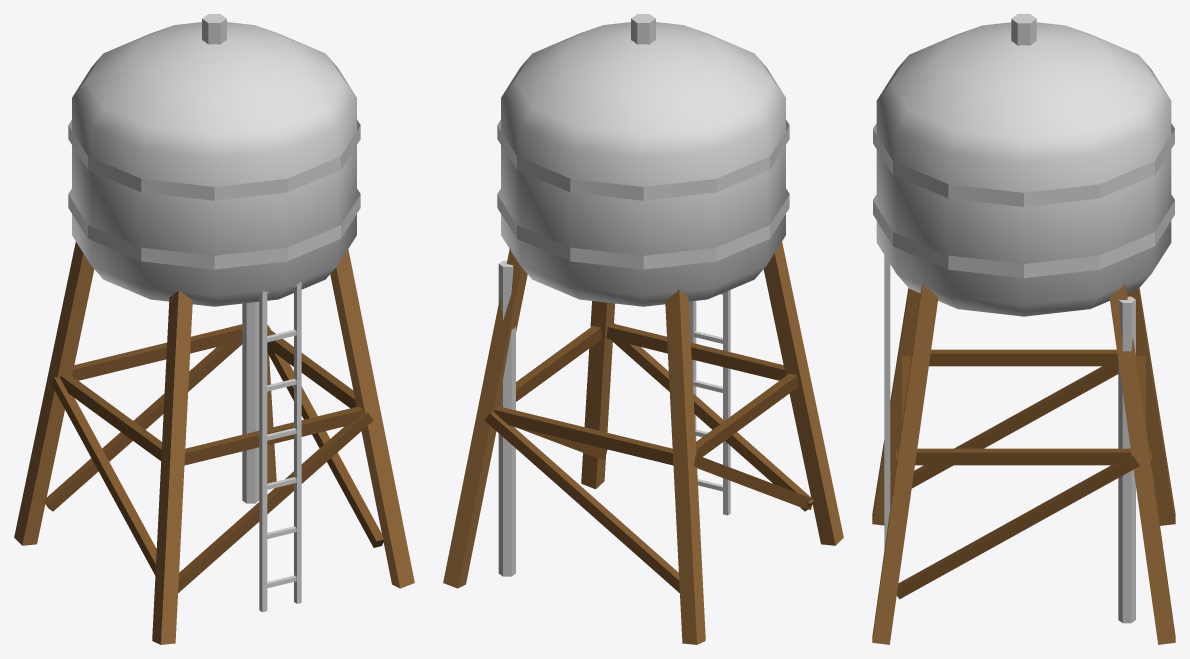
Rendered from water_tower.glb.
3 views of the same model, side by side, from view 1: azimuth 30°, elevation 25°; view 2: azimuth 150°, elevation 25°; view 3: azimuth 270°, elevation 25° (orthographic). The views are drawn at different scales.
Visible parts, largest first — view 1: WaterTower; view 2: WaterTower; view 3: WaterTower.
Part boxes in pixels (box(x1,y1,x2,y2)): WaterTower: box(14, 14, 414, 644); WaterTower: box(443, 14, 843, 644); WaterTower: box(872, 14, 1175, 644).
Size of the model in its own units: 3.09 by 6.34 by 3.09.
